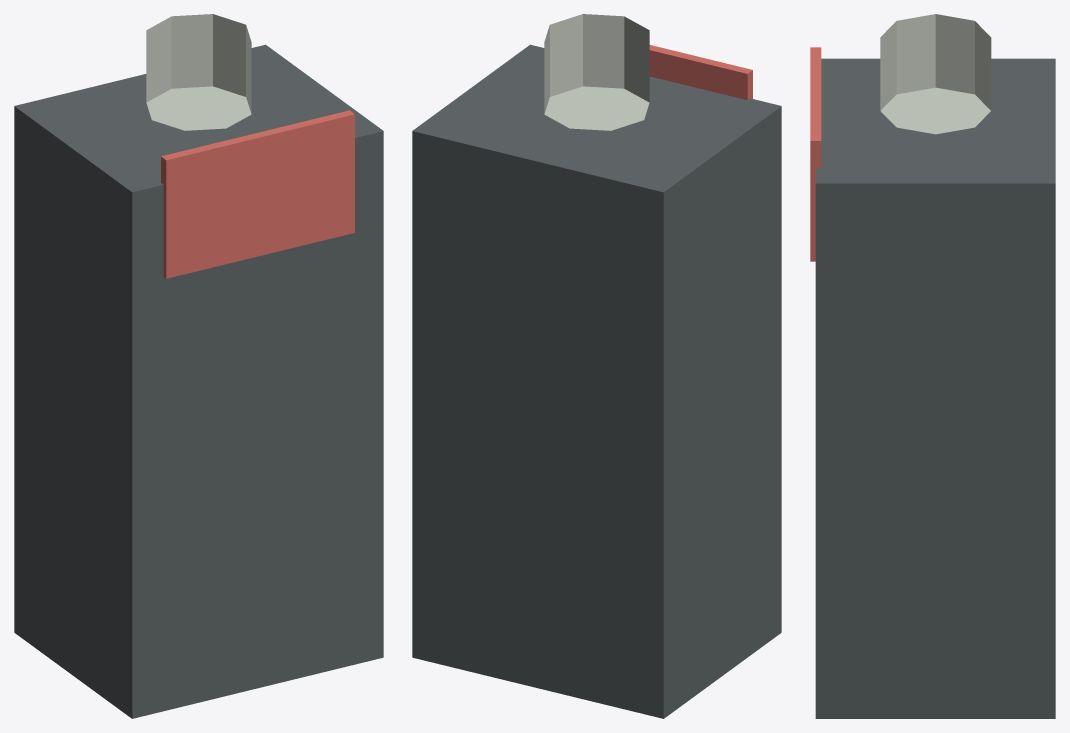
Rendered from gramophone.glb.
The picture shows the model from 3 angles, left to right: view 1: azimuth 30°, elevation 25°; view 2: azimuth 150°, elevation 25°; view 3: azimuth 270°, elevation 25°; orthographic projection.
Size of the model in its own units: 0.48 by 1.11 by 0.399.
Materials: 1 (1 with a texture image).
